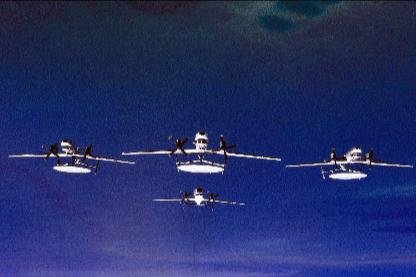C5: (122, 131, 280, 173), (7, 138, 134, 174), (285, 147, 413, 180), (151, 187, 245, 211)
